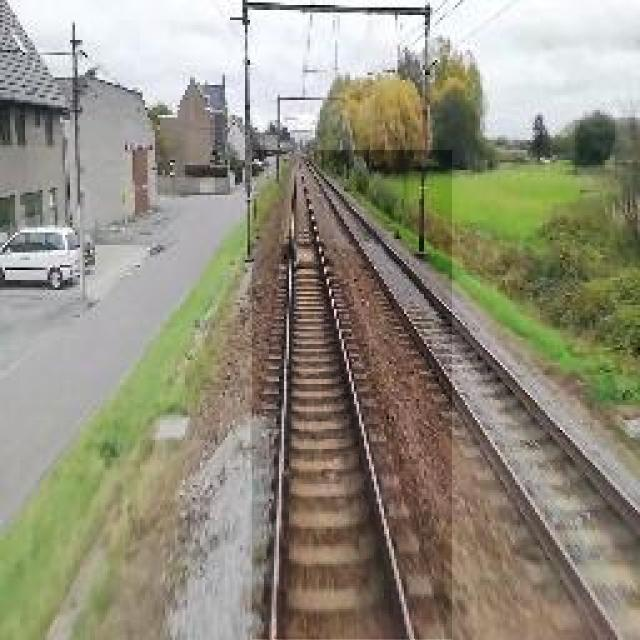rail: (254, 152, 453, 640)
